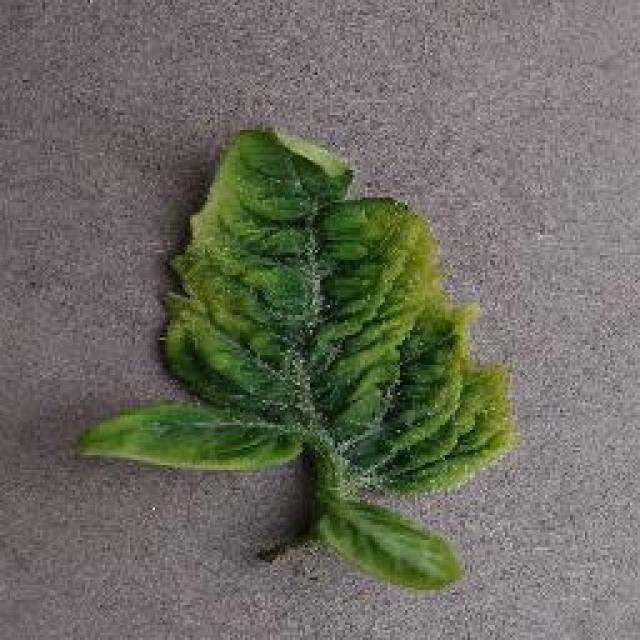Tomato yellow virus leaf: (73, 123, 510, 497)
